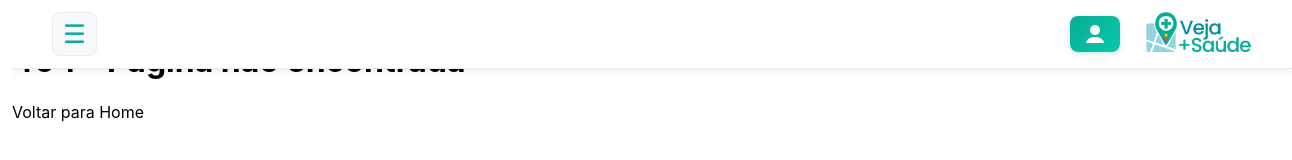
Scenario: Navegação entre Páginas - Integração › Rotas não encontradas (404) › deve ter link para voltar à home na página 404
The width and height of the screenshot is (1292, 160).
Click the link "Voltar para Home".
click(78, 112)  # box [12,102,144,122]
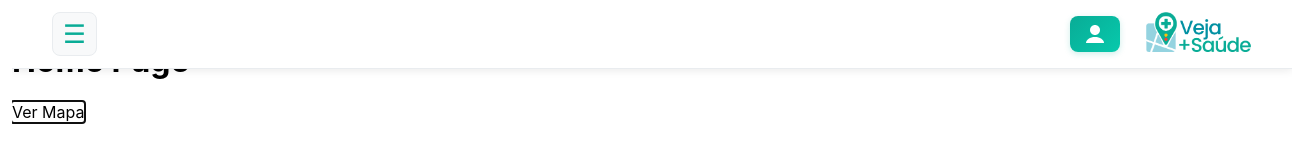
Result: the heading "Home Page" is shown at [12,41,190,80]
